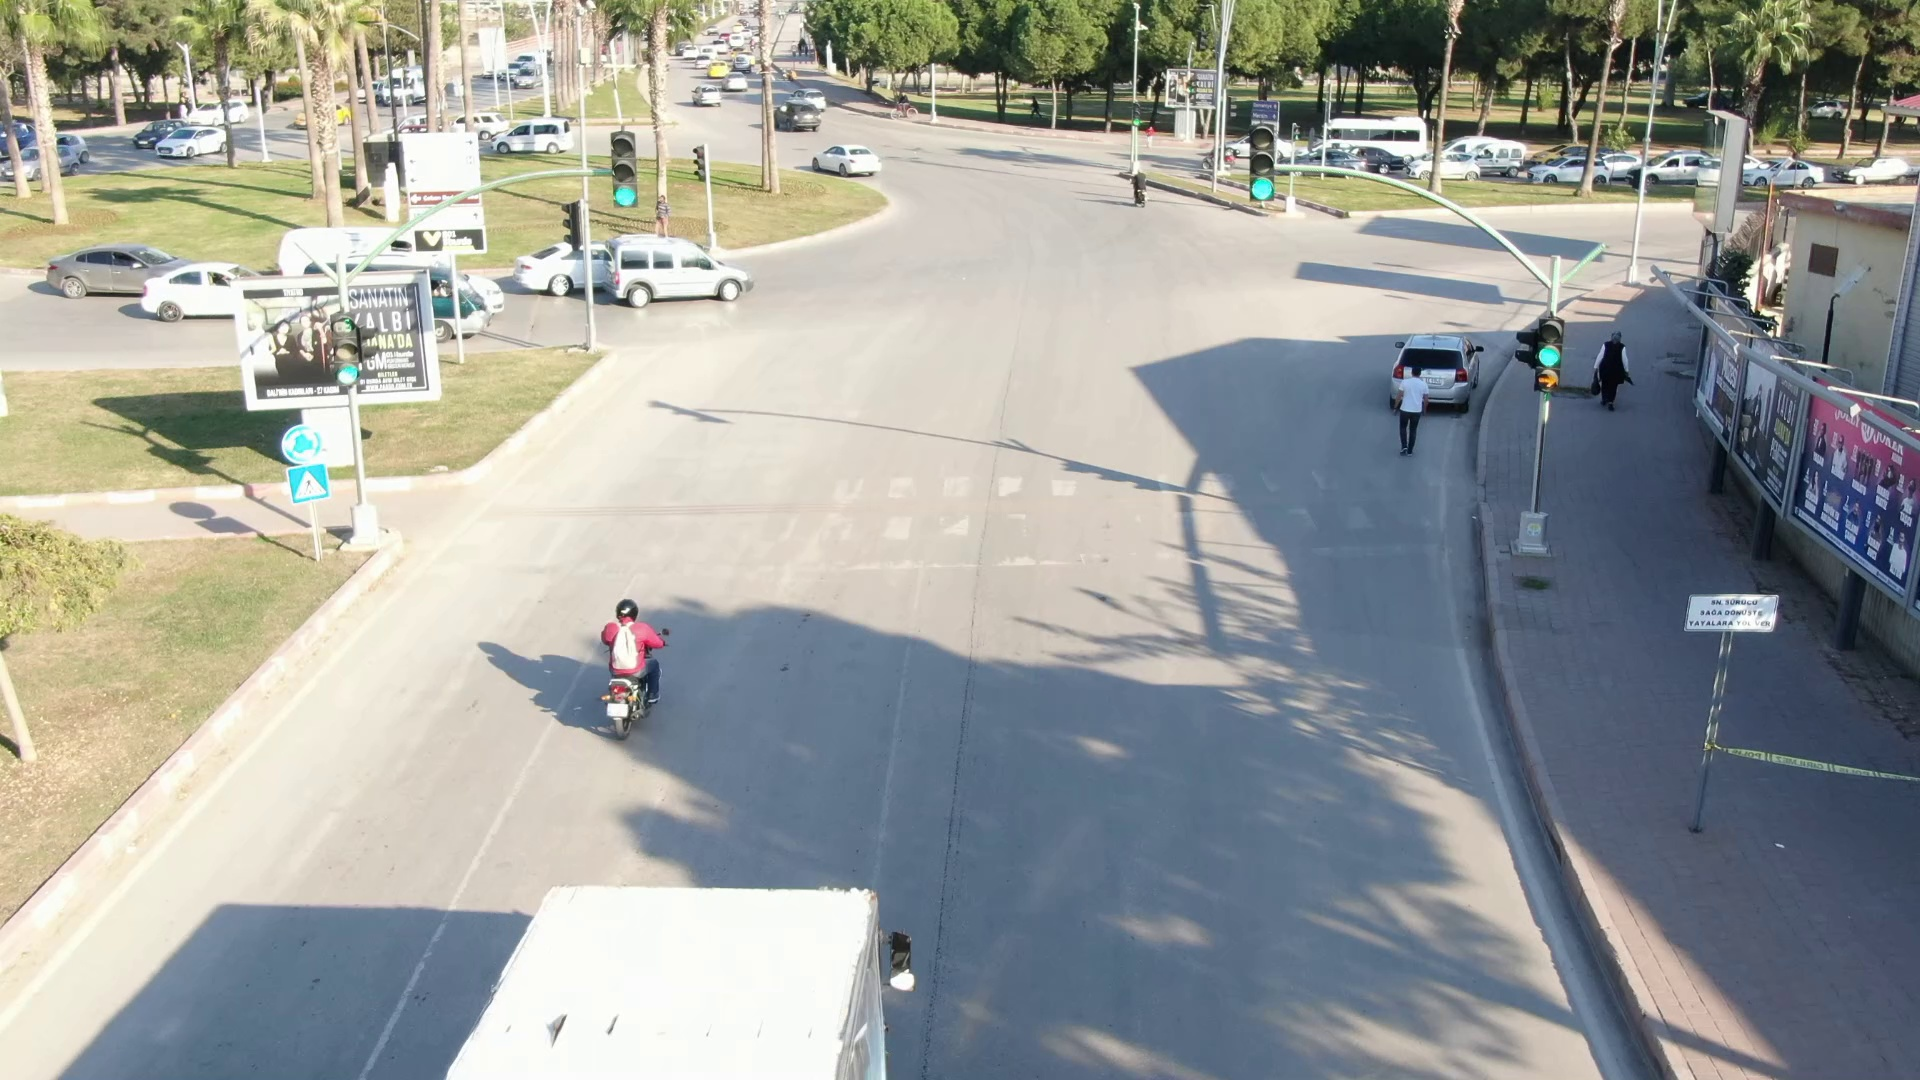car: (602, 232, 761, 321), (45, 231, 183, 303), (485, 114, 585, 159), (150, 119, 242, 165), (806, 135, 887, 186), (766, 90, 828, 134), (687, 77, 723, 112)
person: (595, 577, 679, 707), (1383, 356, 1441, 464), (1588, 318, 1639, 418)
